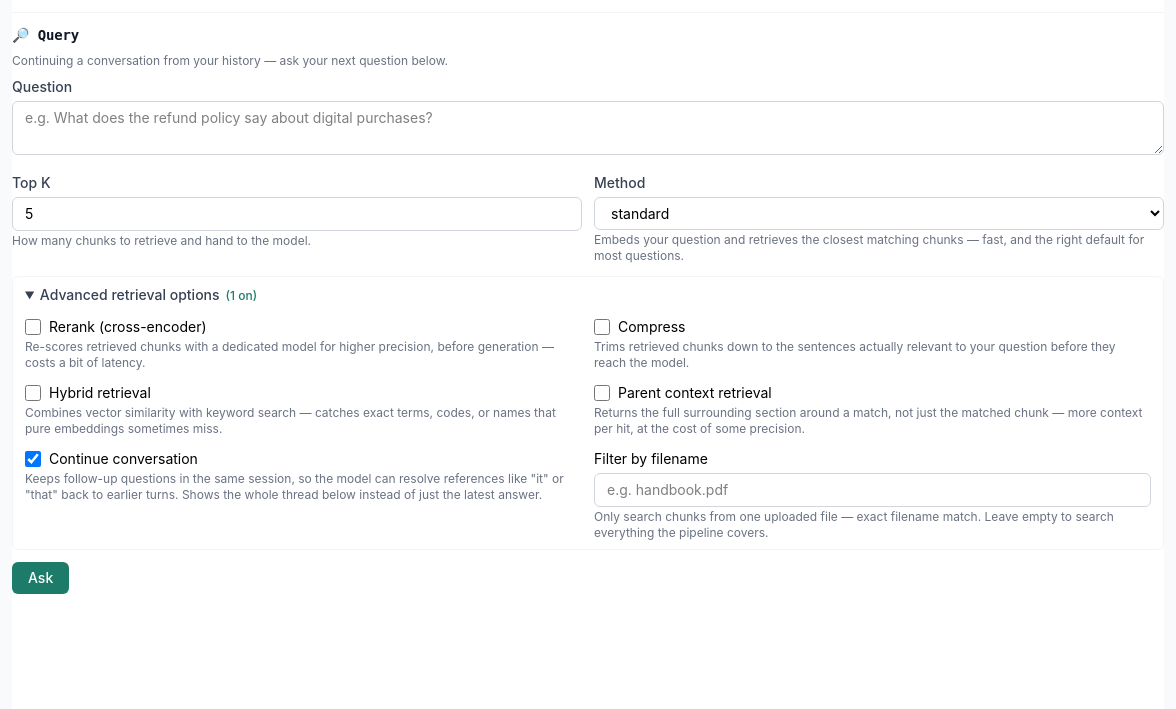
Test case: QueryPanel › pre-fills continue-conversation mode from an initialConversationId (ConversationsPage hand-off)
This screenshot has width=1176, height=709.
Expected: the text "Continuing a conversation from your history" is shown, [12,53,448,68]
Expected: the checkbox labelled "Continue conversation" is checked, [25,451,41,467]
Replace the text in the text box labelled "Question" with "next question" at (588, 128), box [12,101,1164,155]
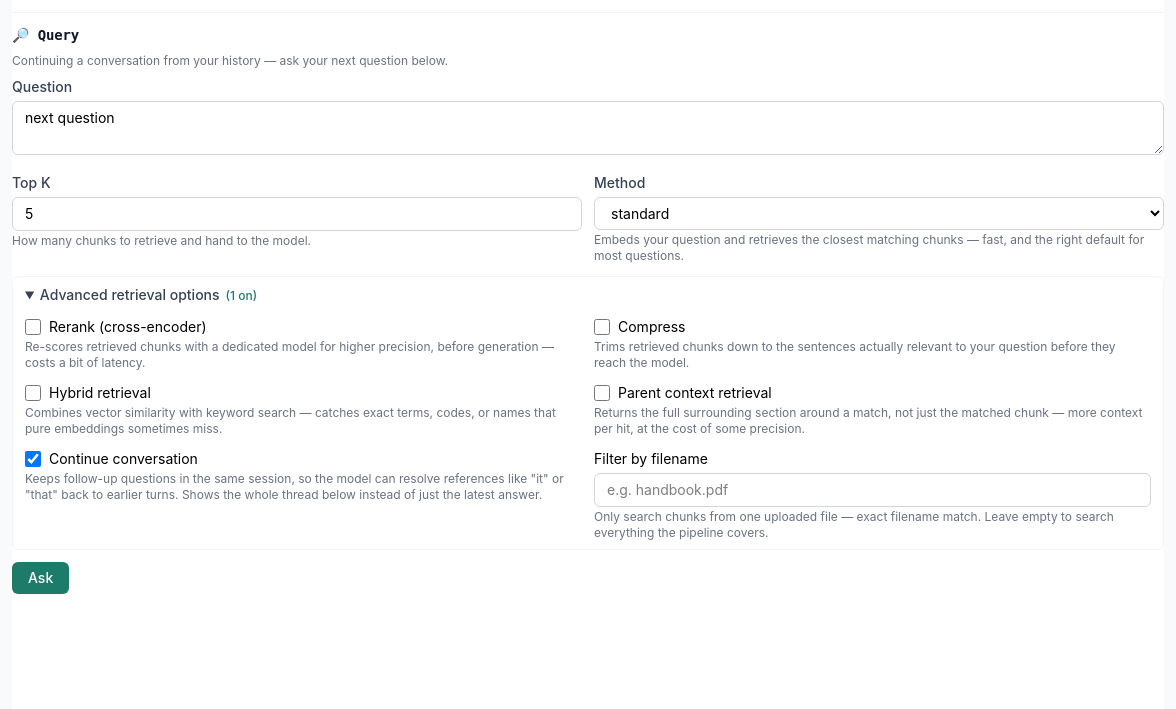
Click the button "Ask" at (41, 578), box [12,562,69,594]
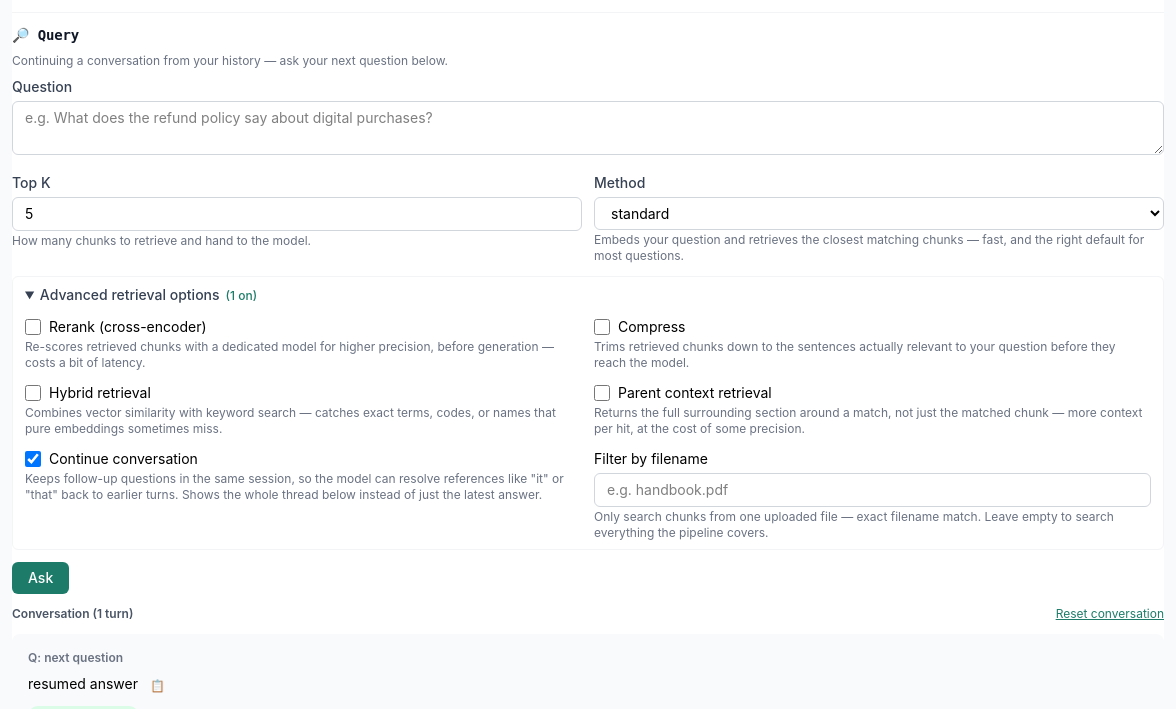
Result: the text "Q: next question" is shown at [28,650,123,665]
